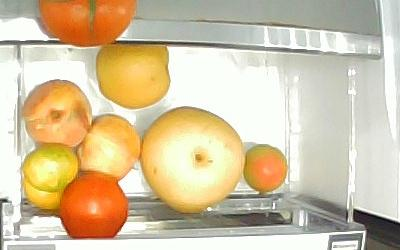peach: (22, 78, 92, 149), (73, 112, 142, 181)
pear: (139, 104, 246, 213), (94, 43, 172, 109)
tangerine: (21, 143, 79, 192), (22, 175, 64, 210)
tomato: (58, 170, 129, 239), (242, 143, 287, 192)
